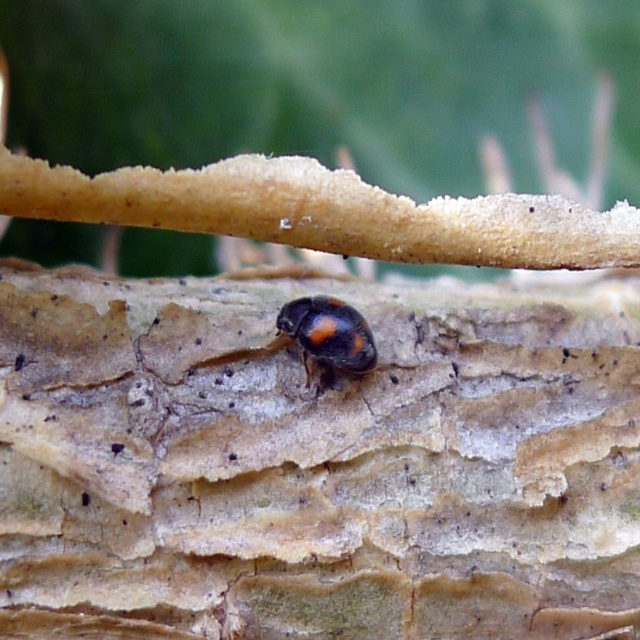Ladybug: (271, 282, 389, 400)
